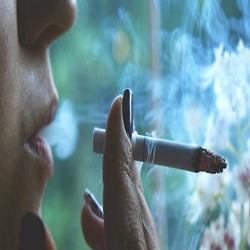smoking: (77, 84, 229, 250)
